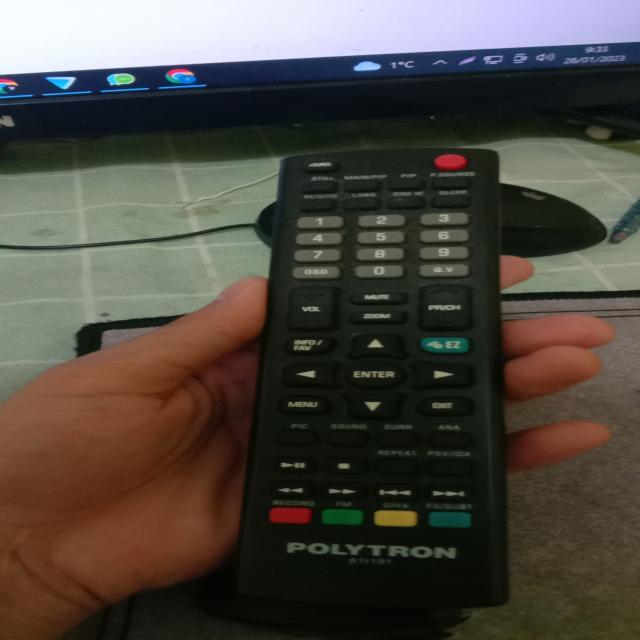remote: (219, 155, 509, 613)
